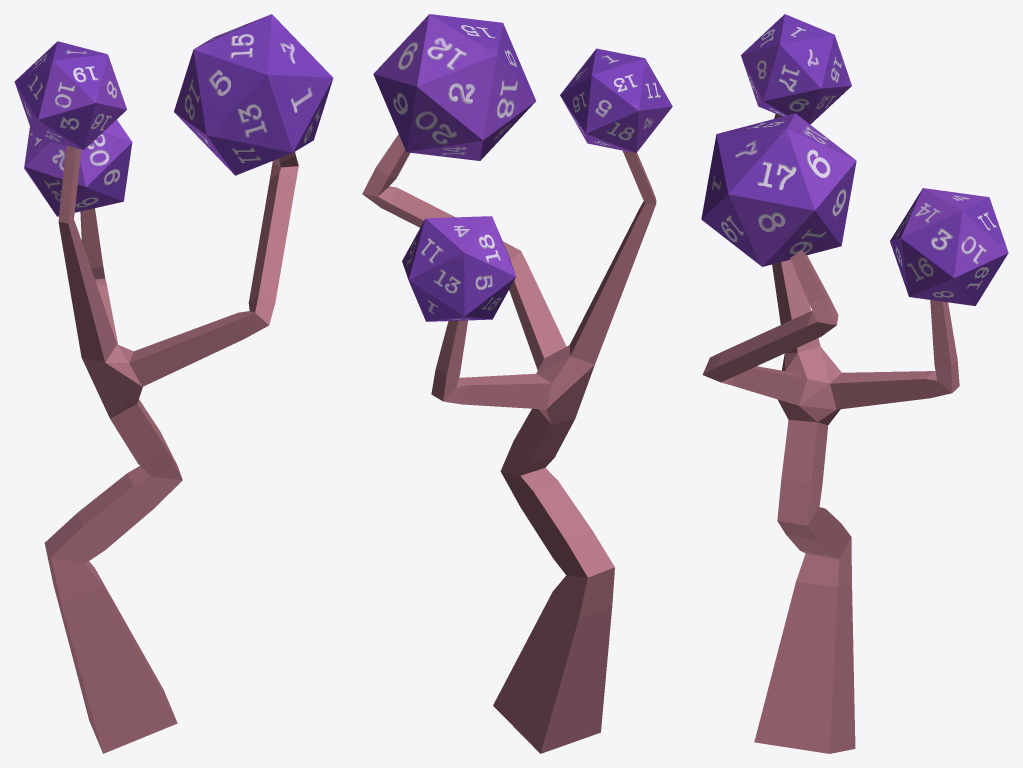
File: tree3.fbx
The picture shows the model from 3 angles, left to right: view 1: azimuth 30°, elevation 25°; view 2: azimuth 150°, elevation 25°; view 3: azimuth 270°, elevation 25°; orthographic projection. The views are drawn at different scales.
Visible parts, largest first — view 1: Cube.002, Icosphere.011, Icosphere.013, Icosphere.012; view 2: Cube.002, Icosphere.011, Icosphere.012, Icosphere.013; view 3: Cube.002, Icosphere.011, Icosphere.012, Icosphere.013.
Boxes of the visible parts, x1,y1,x2,y2 form: Cube.002: [44, 145, 298, 753]; Icosphere.011: [174, 14, 333, 175]; Icosphere.013: [14, 41, 126, 149]; Icosphere.012: [24, 120, 132, 216]; Cube.002: [362, 134, 656, 753]; Icosphere.011: [373, 14, 535, 160]; Icosphere.012: [402, 216, 515, 321]; Icosphere.013: [560, 48, 672, 152]; Cube.002: [702, 114, 959, 753]; Icosphere.011: [701, 113, 856, 266]; Icosphere.012: [890, 188, 1008, 305]; Icosphere.013: [741, 14, 851, 124].
Bounding box in the file's own units: 303 × 714 × 284.
4 materials, 3 textured.
